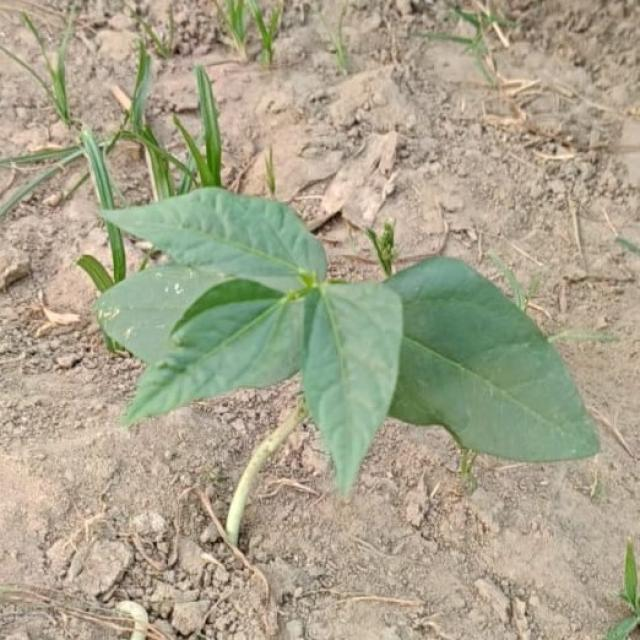plant: (95, 189, 598, 492)
